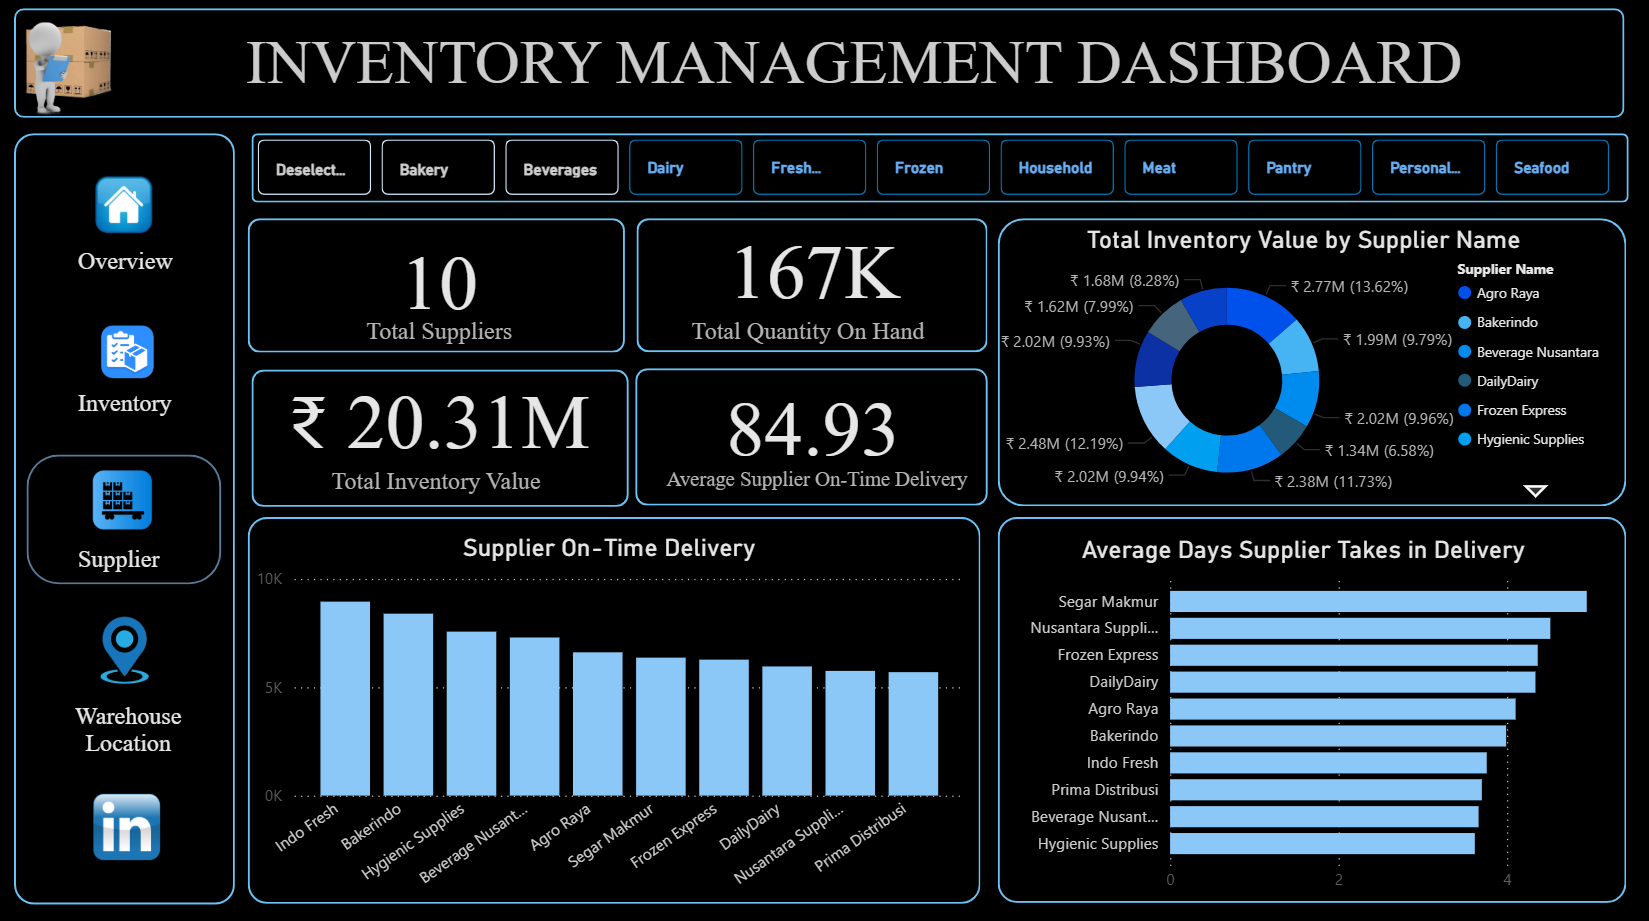

What the dashboard file says about the page in this screenshot:
{"tool":"powerbi","page":{"name":"Suppliers","canvas":[1280,720],"ordinal":2},"visuals":[{"type":"shape","box":[12,105.5,171.4,598.1],"z":0},{"type":"shape","box":[21.6,354.8,151,100.7],"z":1000},{"type":"shape","box":[12,8.4,1248.8,85.1],"z":2000},{"type":"shape","box":[494.7,171.5,272.3,103.9],"z":3000},{"type":"shape","box":[774.3,403.2,487.4,299.3],"z":4000},{"type":"shape","box":[193.3,403.3,568.3,300],"z":5000},{"type":"textbox","box":[99.8,18.4,1126.3,87.2],"z":6000},{"type":"shape","box":[193,171.4,292.4,104.3],"z":7000},{"type":"card","fields":{"Values":["Count(Inventory.Supplier Name)"]},"box":[218.1,181,246.9,69.5],"z":8000},{"type":"shape","box":[195.4,288.8,292.4,106.7],"z":9000},{"type":"shape","box":[493.8,287.6,273.3,106.7],"z":10000},{"type":"textbox","box":[231.3,243.3,219.3,40.7],"z":11000},{"type":"card","fields":{"Values":["Sum(Inventory Management E-Grocery - InventoryData.Quantity On Hand)"]},"box":[509.4,171.4,246.9,71.9],"z":12000},{"type":"card","fields":{"Values":["Avg(Inventory.Supplier OnTime Pct)"]},"box":[508.2,294.8,246.9,69.5],"z":13000},{"type":"textbox","box":[486.6,243.3,281.6,45.5],"z":14000},{"type":"card","fields":{"Values":["Sum(Inventory.Total Inventory Value USD)"]},"box":[218.2,287.9,247.3,71.7],"z":15000},{"type":"textbox","box":[441.7,359.6,380.4,36.4],"z":16000},{"type":"textbox","box":[193.3,359.6,292,36.4],"z":17000},{"type":"shape","box":[195.4,105.5,1067.9,53.9],"z":18000},{"type":"advancedSlicerVisual","fields":{"Values":["Inventory.Category"]},"box":[195.4,105.5,1064.3,53.9],"z":19000},{"type":"image","box":[37.4,221.4,123.7,108.1],"z":20000},{"type":"image","box":[64.4,129.9,65.5,59.2],"z":21000},{"type":"textbox","box":[56.1,189.1,96.7,45.7],"z":22000},{"type":"textbox","box":[56.1,299.3,107,42.6],"z":23000},{"type":"image","box":[62.4,359.6,67.6,61.3],"z":24000},{"type":"textbox","box":[56.3,420.7,97.1,38.4],"z":25000},{"type":"image","box":[10.8,8.4,88.7,97.1],"z":26000},{"type":"image","box":[53.3,458.3,88.3,96.7],"z":27000},{"type":"textbox","box":[36.7,541.7,126.7,70],"z":28000},{"type":"image","box":[47.9,593.3,103.1,100.7],"z":29000},{"type":"columnChart","title":"Supplier On-Time Delivery ","fields":{"Category":["Inventory.Supplier Name"],"Y":["Sum(Inventory.Supplier OnTime Pct)"]},"box":[193,415.9,560.9,287.6],"z":30000},{"type":"clusteredBarChart","title":"Average  Days Supplier Takes in Delivery","fields":{"Category":["Inventory.Supplier Name"],"Y":["Avg(Inventory.Lead Time Days)"]},"box":[779.4,417.8,464.6,284.8],"z":31000},{"type":"shape","box":[774.3,171.5,487.4,223.4],"z":32000},{"type":"donutChart","title":"Total Inventory Value by Supplier Name","fields":{"Y":["Sum(Inventory.Total Inventory Value USD)"],"Series":["Inventory.Supplier Name"]},"box":[769.1,177.7,486.4,218.2],"z":33000}]}

Visuals, with their boxes in screenshot pixels (x1, y1, x2, y2), scaled from the page's 1280x720 canvas onto the 1649x921 screenshot:
shape: BBox(15, 135, 236, 900)
shape: BBox(28, 454, 222, 583)
shape: BBox(15, 11, 1624, 120)
shape: BBox(637, 219, 988, 352)
shape: BBox(998, 516, 1625, 899)
shape: BBox(249, 516, 981, 900)
textbox: BBox(129, 24, 1580, 135)
shape: BBox(249, 219, 625, 353)
card - Count(Inventory.Supplier Name): BBox(281, 232, 599, 320)
shape: BBox(252, 369, 628, 506)
shape: BBox(636, 368, 988, 504)
textbox: BBox(298, 311, 580, 363)
card - Sum(Inventory Management E-Grocery - InventoryData.Quantity On Hand): BBox(656, 219, 974, 311)
card - Avg(Inventory.Supplier OnTime Pct): BBox(655, 377, 973, 466)
textbox: BBox(627, 311, 990, 369)
card - Sum(Inventory.Total Inventory Value USD): BBox(281, 368, 600, 460)
textbox: BBox(569, 460, 1059, 507)
textbox: BBox(249, 460, 625, 507)
shape: BBox(252, 135, 1627, 204)
advancedSlicerVisual - Inventory.Category: BBox(252, 135, 1623, 204)
image: BBox(48, 283, 208, 421)
image: BBox(83, 166, 167, 242)
textbox: BBox(72, 242, 197, 300)
textbox: BBox(72, 383, 210, 437)
image: BBox(80, 460, 167, 538)
textbox: BBox(73, 538, 198, 587)
image: BBox(14, 11, 128, 135)
image: BBox(69, 586, 182, 710)
textbox: BBox(47, 693, 211, 782)
image: BBox(62, 759, 195, 888)
"Supplier On-Time Delivery " columnChart: BBox(249, 532, 971, 900)
"Average  Days Supplier Takes in Delivery" clusteredBarChart: BBox(1004, 534, 1603, 899)
shape: BBox(998, 219, 1625, 505)
"Total Inventory Value by Supplier Name" donutChart: BBox(991, 227, 1617, 506)
